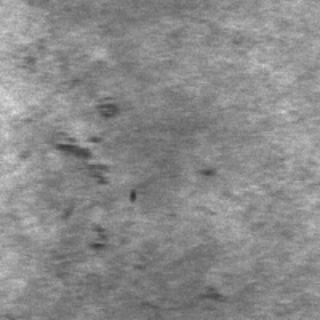rolled pit: (48, 92, 116, 255)
